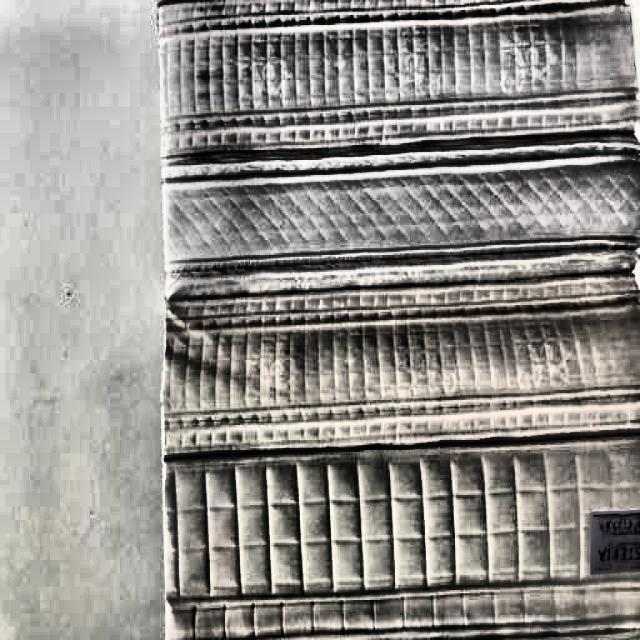paper: (156, 8, 640, 640)
